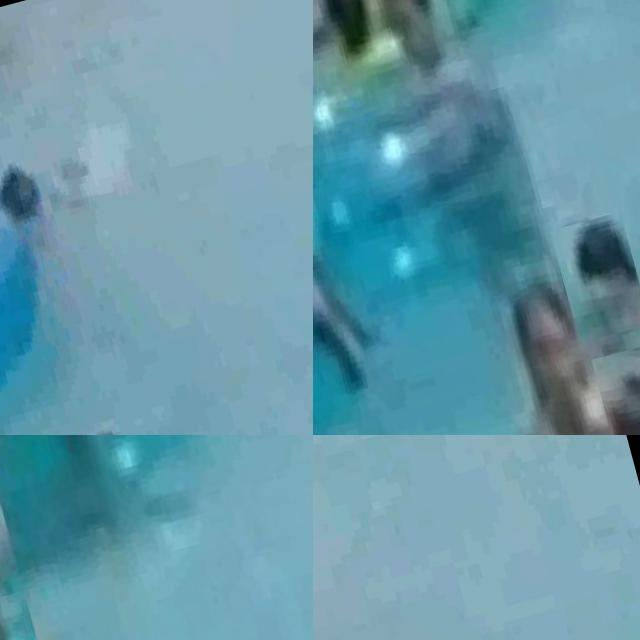drowning: (0, 81, 193, 254), (313, 465, 390, 640), (549, 211, 640, 344)
swimming: (488, 269, 603, 435), (19, 369, 281, 435), (313, 0, 463, 109), (313, 62, 361, 363), (0, 435, 56, 640), (590, 338, 640, 435)
